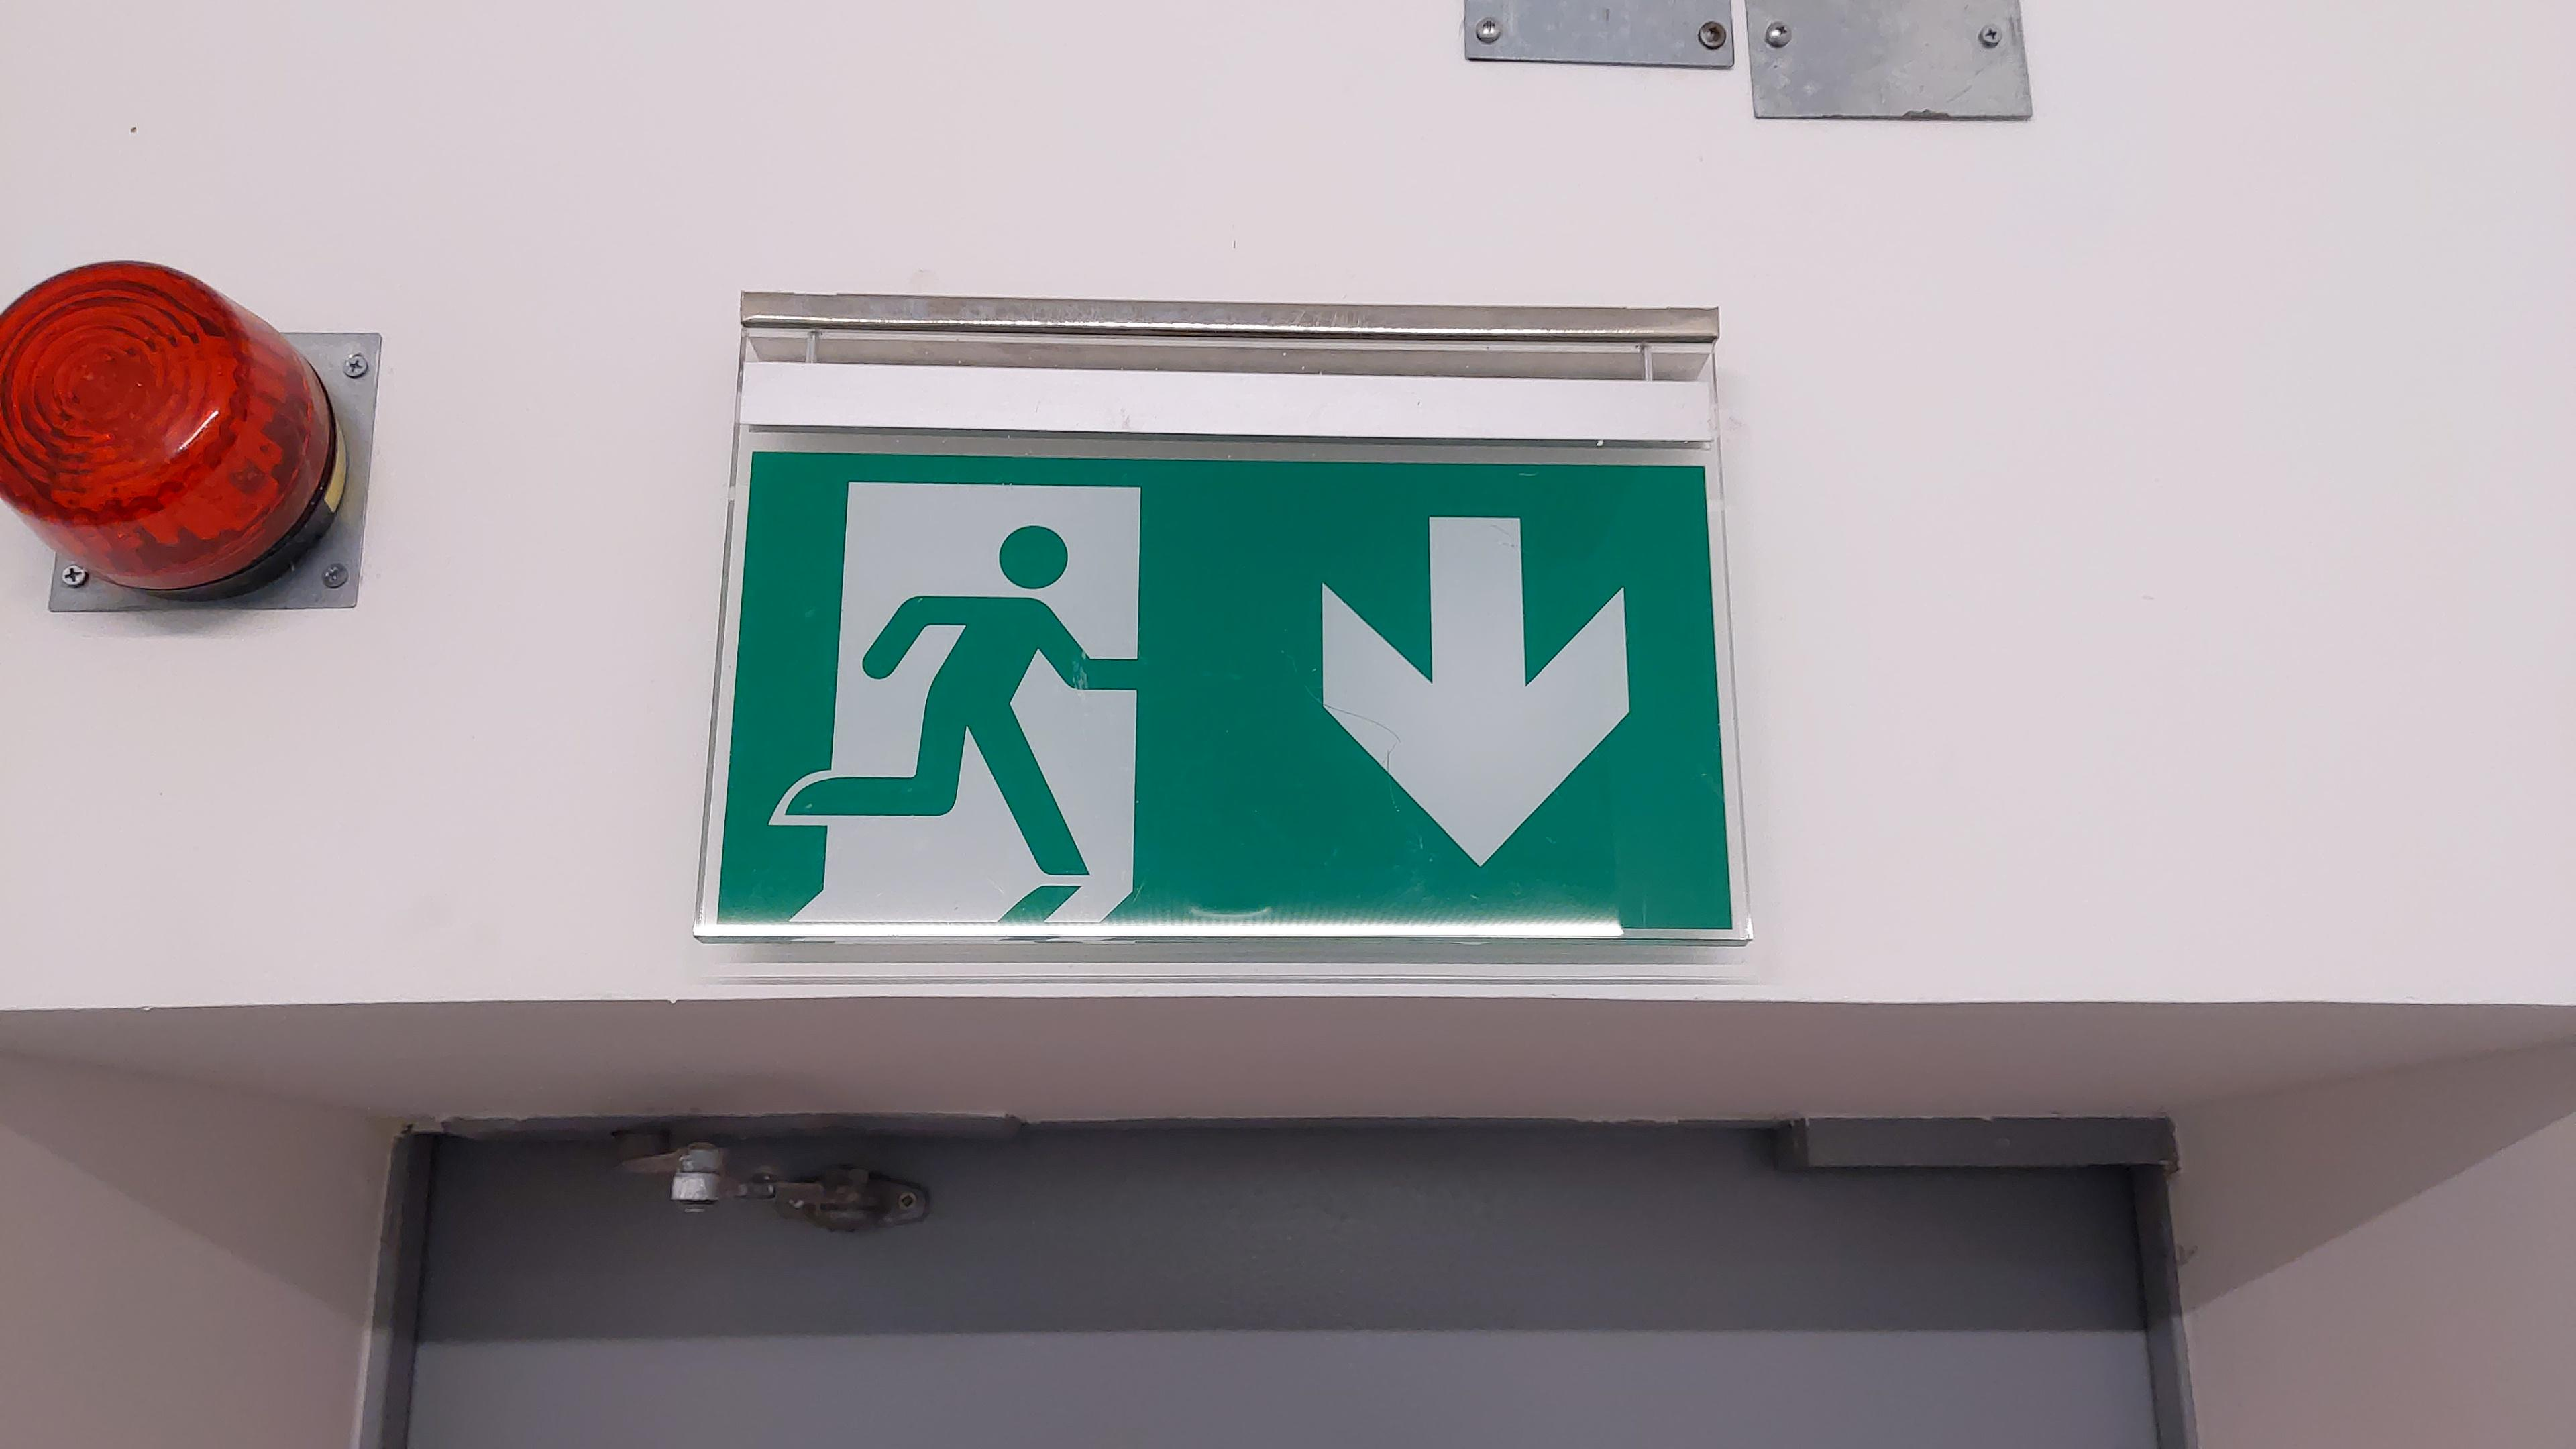emergency down arrow: (1311, 502, 1640, 865)
emergency exit: (757, 471, 1161, 936)
